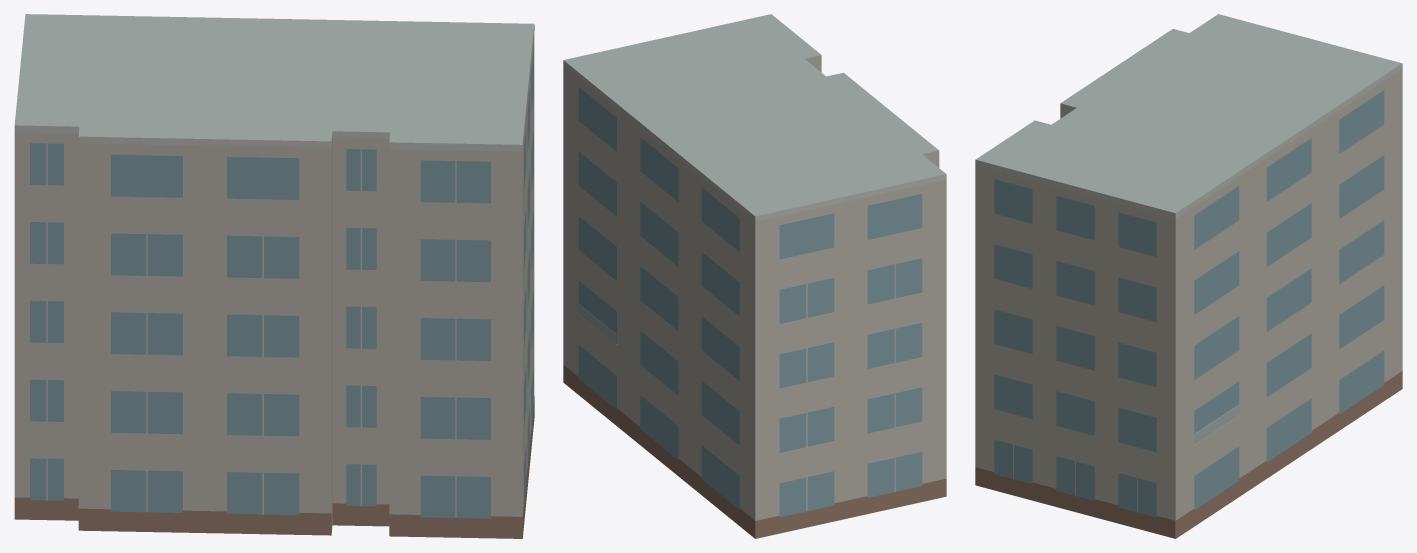
File: survey-upis-32791836.glb
3 renders of one model, left to right at view 1: azimuth 30°, elevation 25°; view 2: azimuth 150°, elevation 25°; view 3: azimuth 270°, elevation 25°, orthographic. The views are drawn at different scales.
Parts seen in each view (by area): view 1: survey-upis-32791836.tmp; view 2: survey-upis-32791836.tmp; view 3: survey-upis-32791836.tmp.
Part boxes in pixels (<box>): survey-upis-32791836.tmp: <box>14,14,534,538</box>; survey-upis-32791836.tmp: <box>563,14,946,538</box>; survey-upis-32791836.tmp: <box>975,14,1402,538</box>.
Size of the model in its own units: 19.36 by 14.75 by 17.54.
